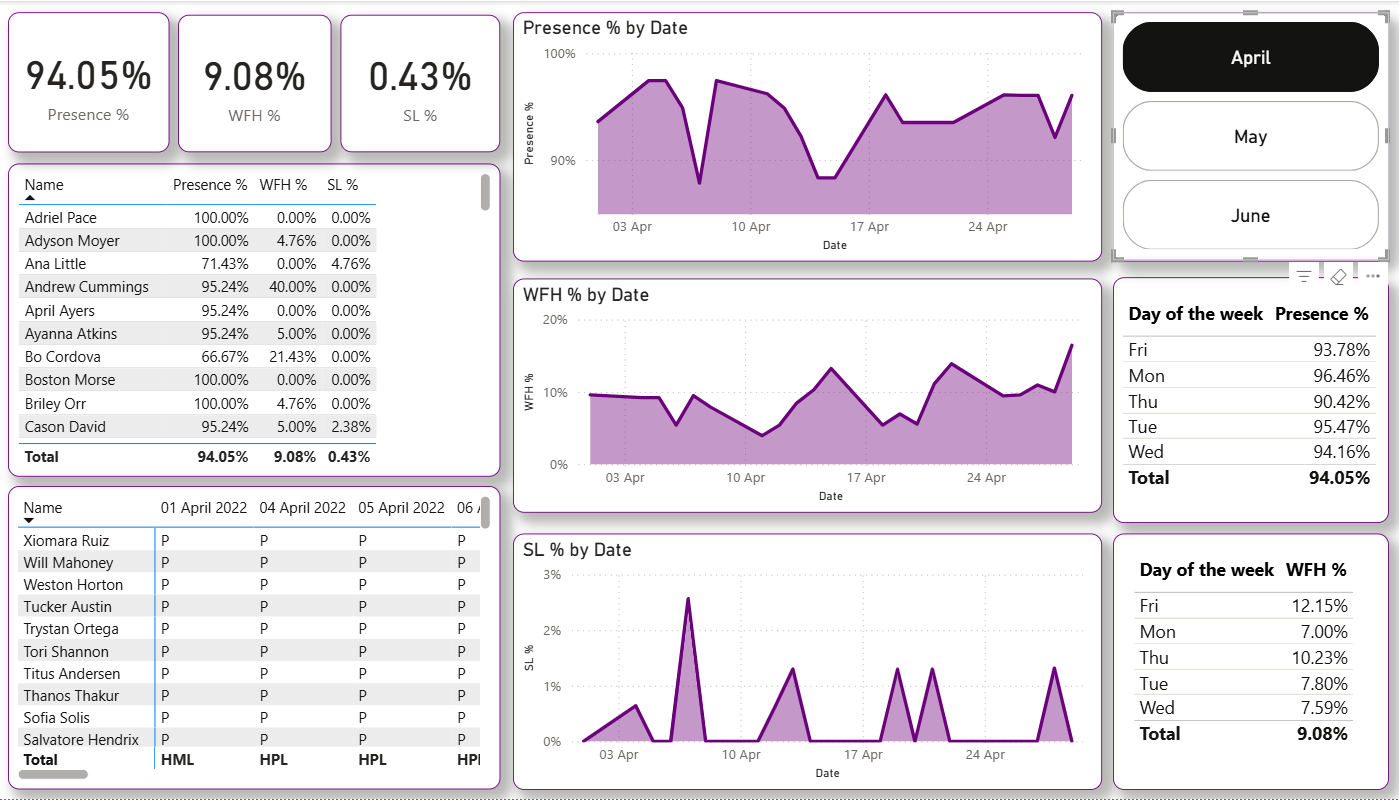

Layout of this report page (visuals, bound fields, positions):
{"tool":"powerbi","page":{"name":"Presence Insights1","canvas":[1280,720],"ordinal":0},"visuals":[{"type":"tableEx","fields":{"Values":["Final Data.Name","Measure Table.Presence %","Measure Table.WFH %","Measure Table.SL %"]},"box":[13.7,146.8,444.1,282.4],"z":0},{"type":"pivotTable","fields":{"Rows":["Final Data.Name"],"Columns":["Final Data.Date"],"Values":["Min(Final Data.Attendence)"]},"box":[13.7,437.9,444.1,273.7],"z":1000},{"type":"card","fields":{"Values":["Measure Table.Presence %"]},"box":[13.5,10.1,145.4,126.2],"z":2000},{"type":"card","fields":{"Values":["Measure Table.WFH %"]},"box":[166.7,12.4,138.1,124.4],"z":3000},{"type":"card","fields":{"Values":["Measure Table.SL %"]},"box":[313.3,12.4,144.3,124],"z":4000},{"type":"areaChart","fields":{"Y":["Measure Table.Presence %"],"Category":["Final Data.Date"]},"box":[469,10,531.2,225.2],"z":5000},{"type":"areaChart","fields":{"Y":["Measure Table.WFH %"],"Category":["Final Data.Date"]},"box":[469,250,531.2,211.5],"z":6000},{"type":"areaChart","fields":{"Category":["Final Data.Date"],"Y":["Measure Table.SL %"]},"box":[469,480.2,531.2,231.4],"z":7000},{"type":"tableEx","fields":{"Values":["Final Data.Day of the week","Measure Table.Presence %"]},"box":[1010.1,248.8,248.8,221.4],"z":8000},{"type":"tableEx","fields":{"Values":["Final Data.Day of the week","Measure Table.WFH %"]},"box":[1010.1,480.2,248.8,231.4],"z":9000},{"type":"advancedSlicerVisual","fields":{"Values":["Final Data.Month 2"]},"box":[1010,10,249,225],"z":10000}]}

Visuals, with their boxes in screenshot pixels (x1, y1, x2, y2), scaled from the page's 1280x720 canvas onto the 1399x800 screenshot:
tableEx - Final Data.Name x Measure Table.Presence %: bbox=[15, 163, 500, 477]
pivotTable - Final Data.Name x Final Data.Date: bbox=[15, 487, 500, 791]
card - Measure Table.Presence %: bbox=[15, 11, 174, 151]
card - Measure Table.WFH %: bbox=[182, 14, 333, 152]
card - Measure Table.SL %: bbox=[342, 14, 500, 152]
areaChart - Measure Table.Presence % x Final Data.Date: bbox=[513, 11, 1093, 261]
areaChart - Measure Table.WFH % x Final Data.Date: bbox=[513, 278, 1093, 513]
areaChart - Final Data.Date x Measure Table.SL %: bbox=[513, 534, 1093, 791]
tableEx - Final Data.Day of the week x Measure Table.Presence %: bbox=[1104, 276, 1376, 522]
tableEx - Final Data.Day of the week x Measure Table.WFH %: bbox=[1104, 534, 1376, 791]
advancedSlicerVisual - Final Data.Month 2: bbox=[1104, 11, 1376, 261]
